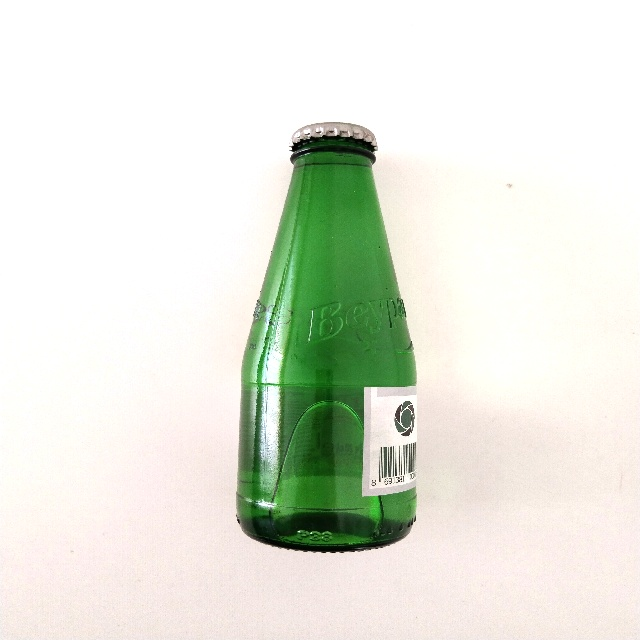beypazari_maden_suyu: (239, 123, 416, 550)
